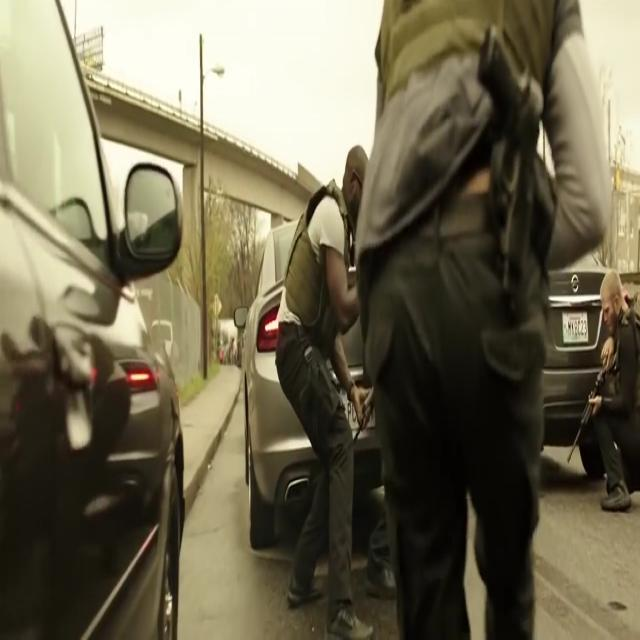Weapon: (553, 299, 618, 474)
